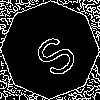S: (25, 25, 81, 82)
